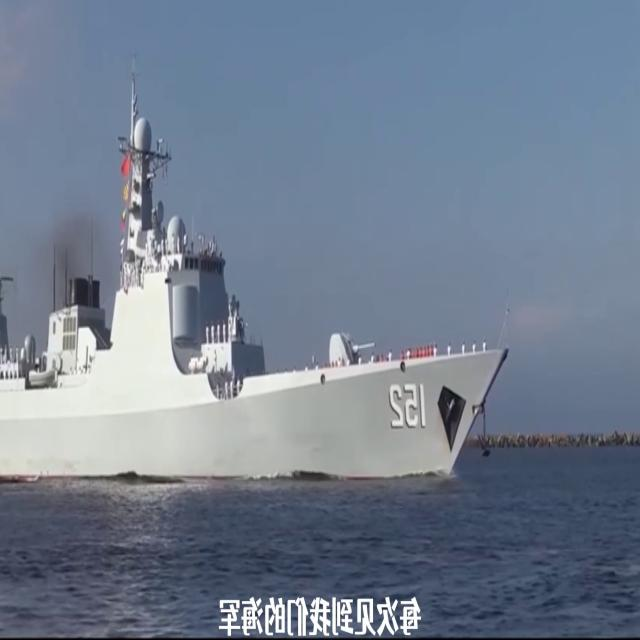navalvessels: (0, 110, 506, 488)
